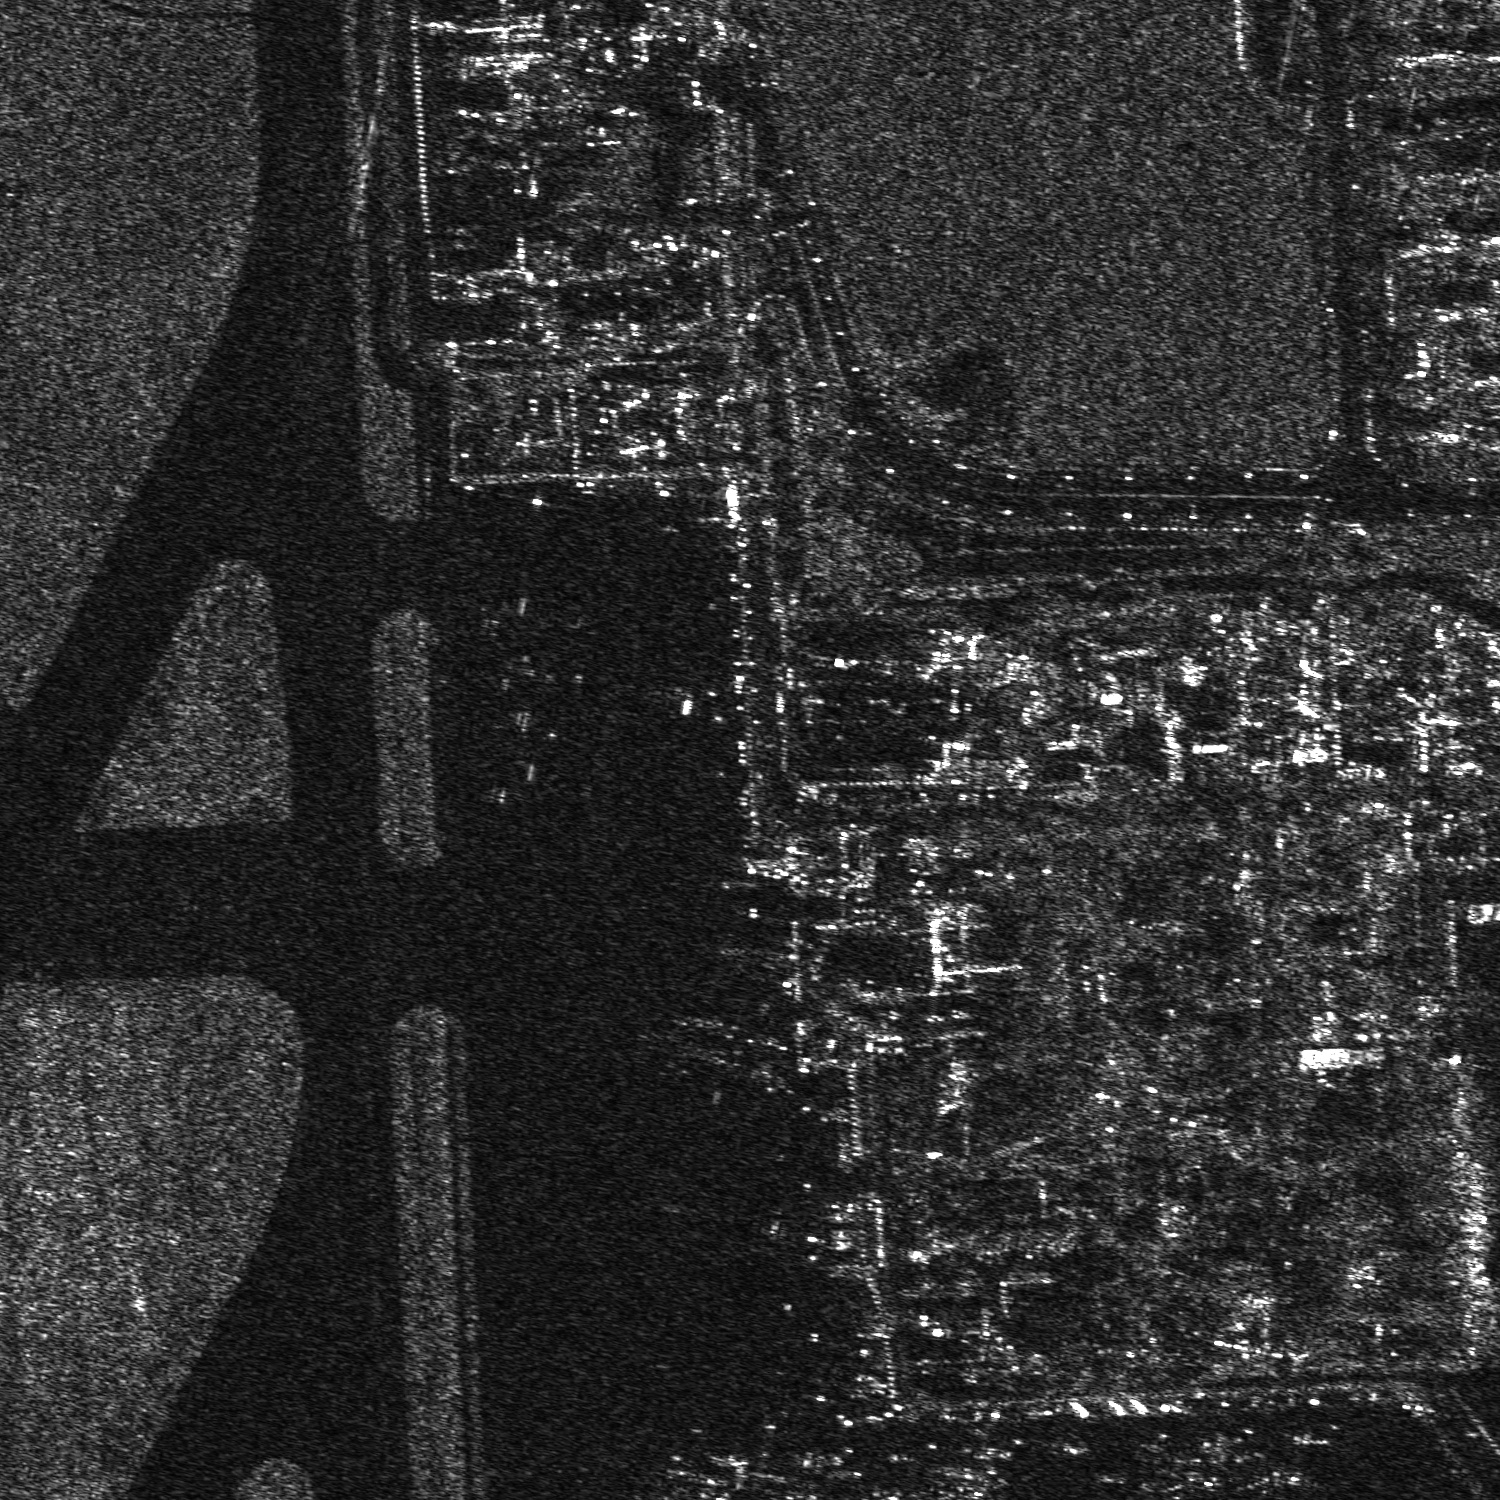ARJ21: (1159, 1442, 1225, 1499)
Boeing737: (1239, 1431, 1330, 1499)
